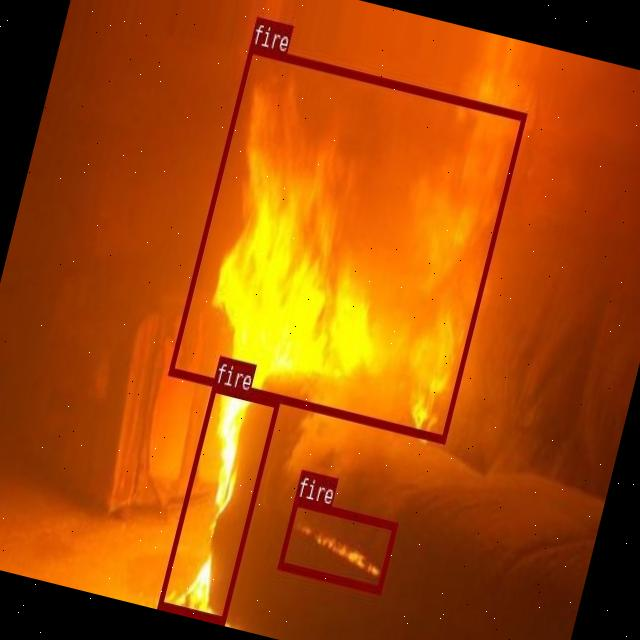fire: (166, 44, 526, 442), (157, 382, 279, 622), (276, 496, 398, 592)
